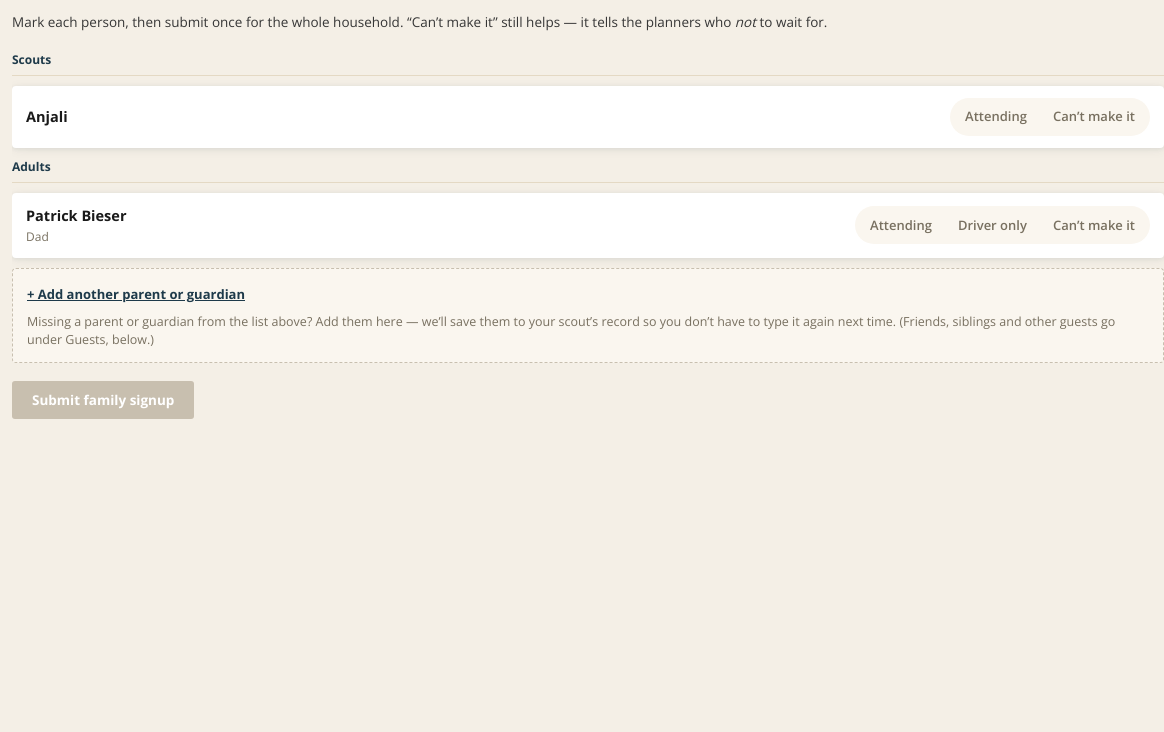
Test: PersonFirstForm — leg times › IncompleteTime_SaysSoInPlace_AndSendsNoTime
The image size is (1164, 732).
Click the button "Attending" in the row of "Anjali" at (996, 117), box x1=953 y1=101 x2=1039 y2=133
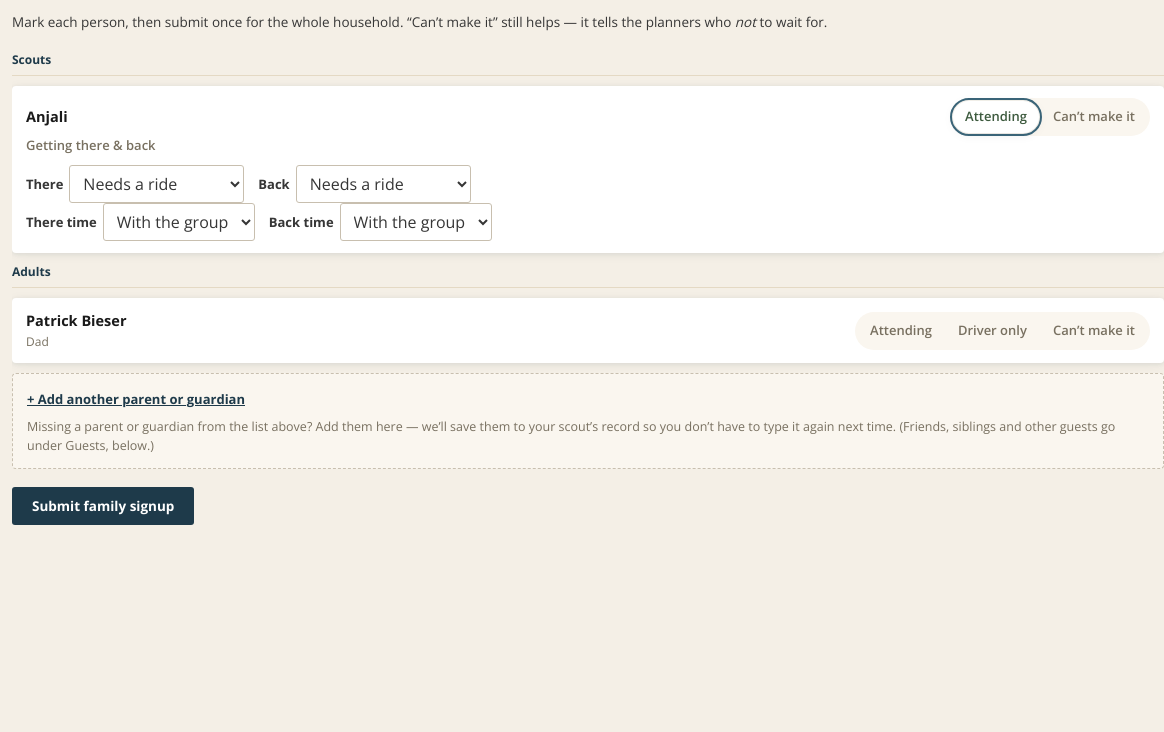
Select "Earlier" in the dropdown named "Anjali — back time" at (416, 222), box x1=340 y1=203 x2=492 y2=241
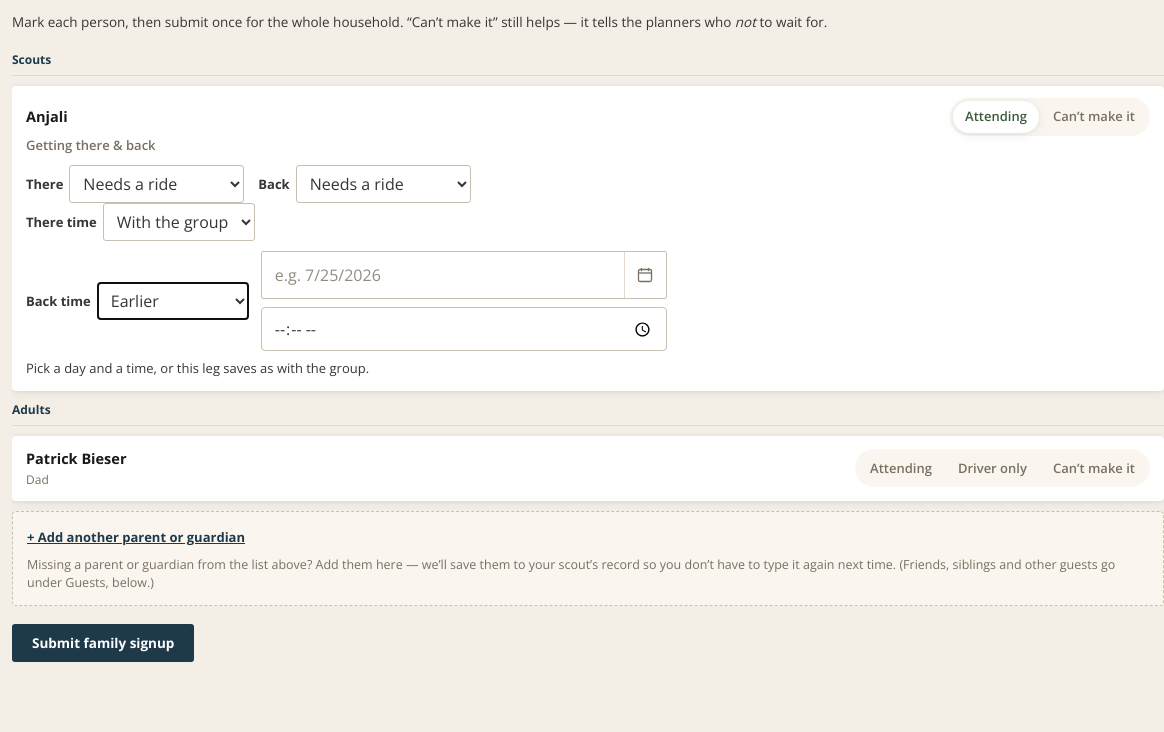
Result: the text "Pick a day and a time, or this leg saves as with the group." is shown at x1=26 y1=359 x2=369 y2=377
